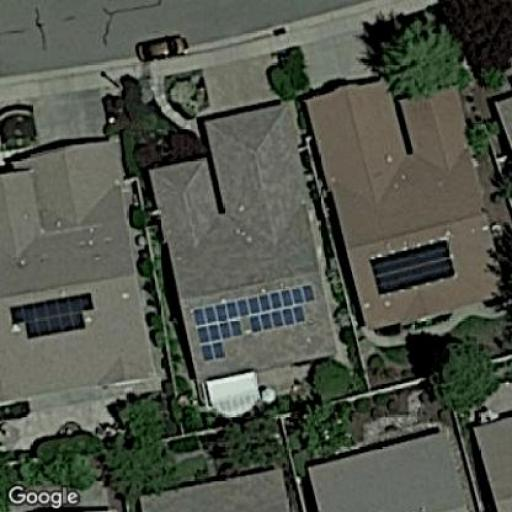solar-panel: (189, 284, 318, 363), (372, 242, 458, 296), (7, 290, 98, 338)
